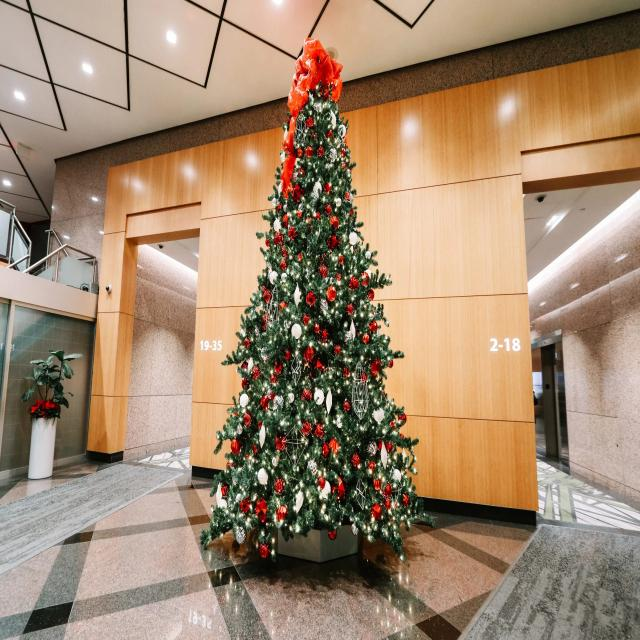Christmas-tree: (212, 40, 420, 528)
